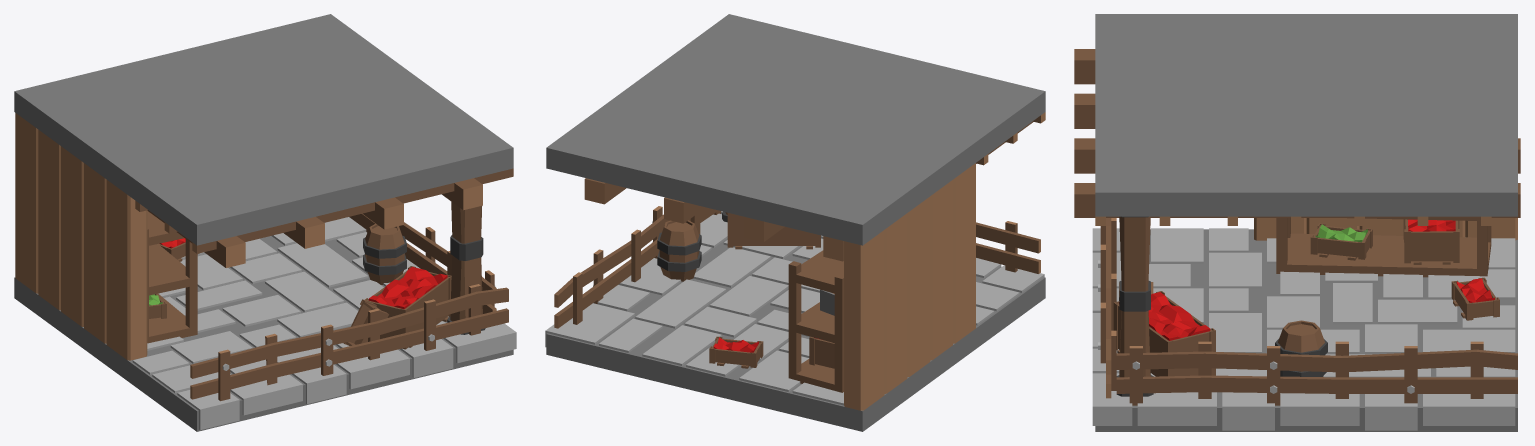
File: FoodStorage_Level_01_CornerLeft.fbx
The picture shows the model from 3 angles, left to right: view 1: azimuth 30°, elevation 25°; view 2: azimuth 150°, elevation 25°; view 3: azimuth 270°, elevation 25°; orthographic projection. The views are drawn at different scales.
Parts seen in each view (by area): view 1: FoodStorage_Level_01_CornerLeft; view 2: FoodStorage_Level_01_CornerLeft; view 3: FoodStorage_Level_01_CornerLeft.
Boxes of the visible parts, x1,y1,x2,y2 form: FoodStorage_Level_01_CornerLeft: (14,14,516,431); FoodStorage_Level_01_CornerLeft: (545,14,1045,431); FoodStorage_Level_01_CornerLeft: (1074,14,1520,431).
Size of the model in its own units: 8.05 by 5 by 8.45.
